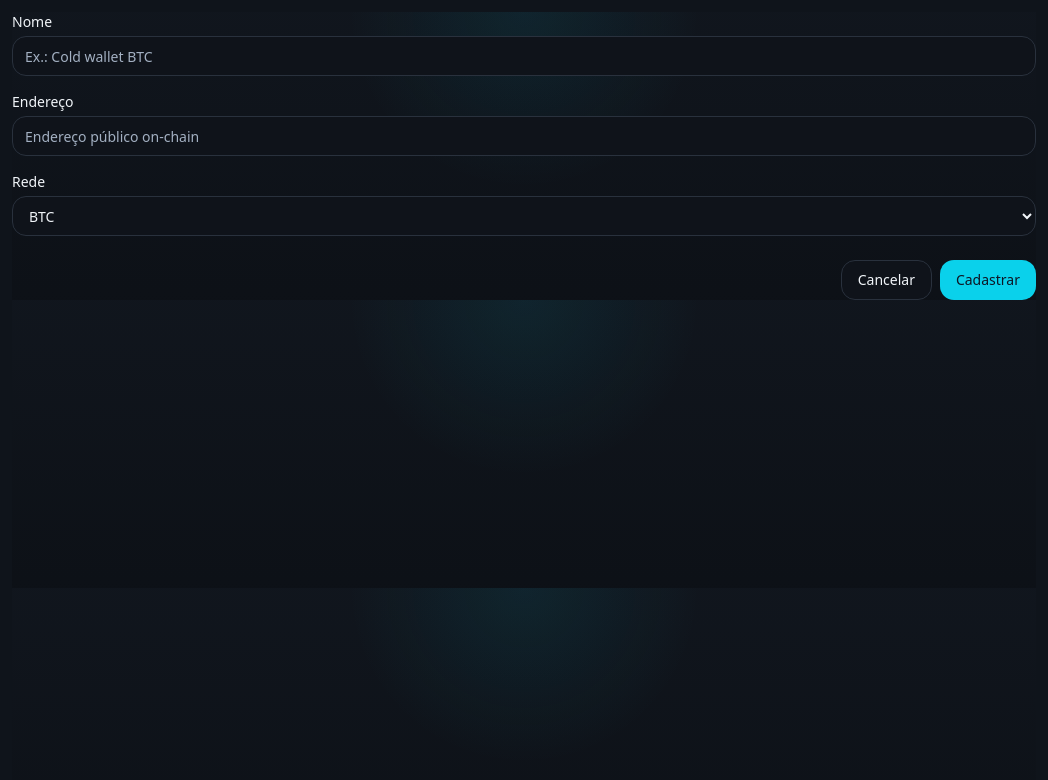
Test: WalletForm › traduz INVALID_ADDRESS em mensagem localizada
Type "Cold wallet BTC" into the field labelled "Nome" at [524, 56], box [12,36,1036,76]
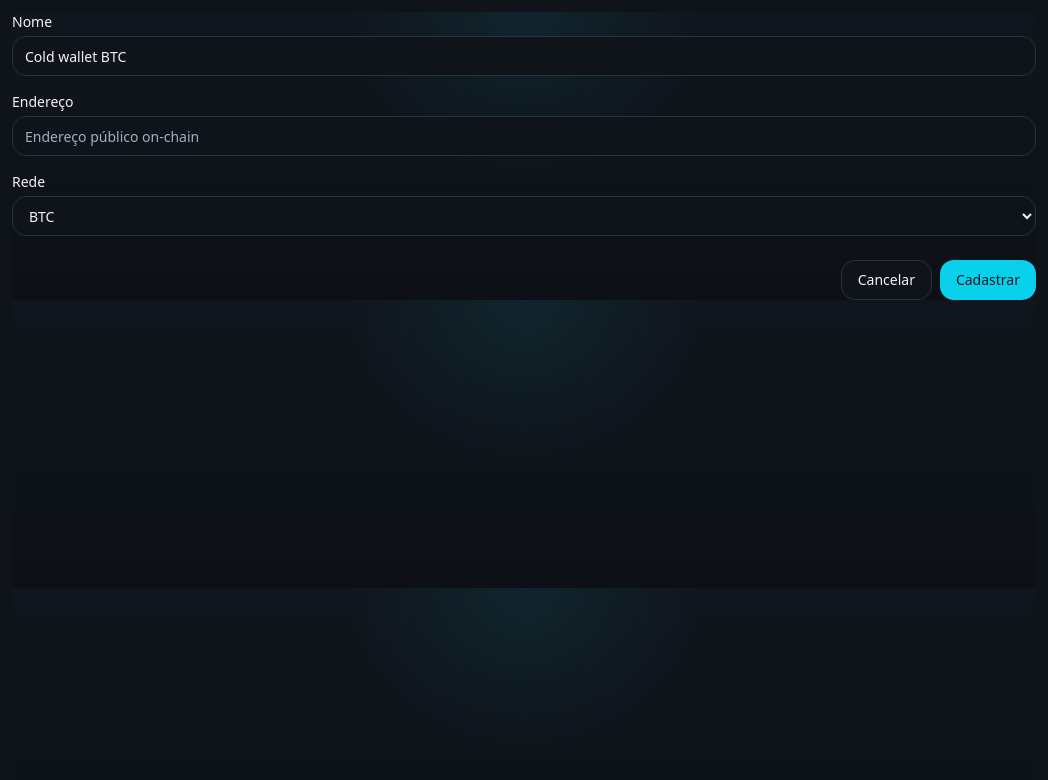
Type "bc1qabcdef0123456789fedcba9876543210" into the field labelled "Endereço" at [524, 136], box [12,116,1036,156]
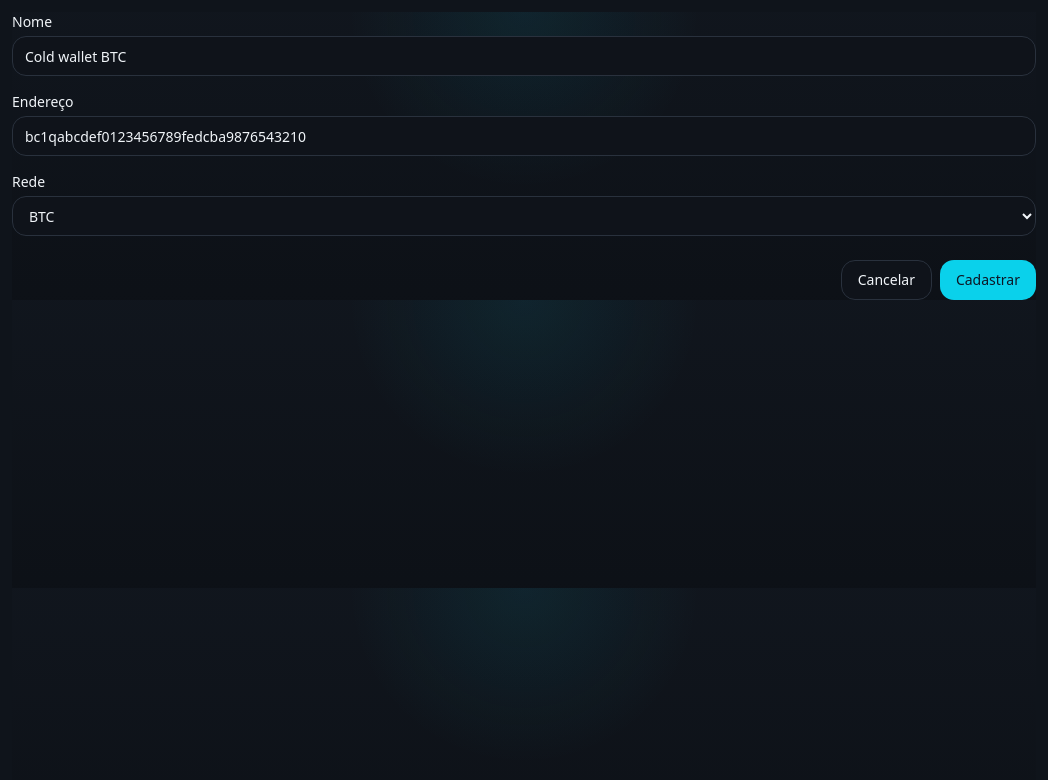
Click the button "Cadastrar" at [988, 280], box [940,260,1036,300]
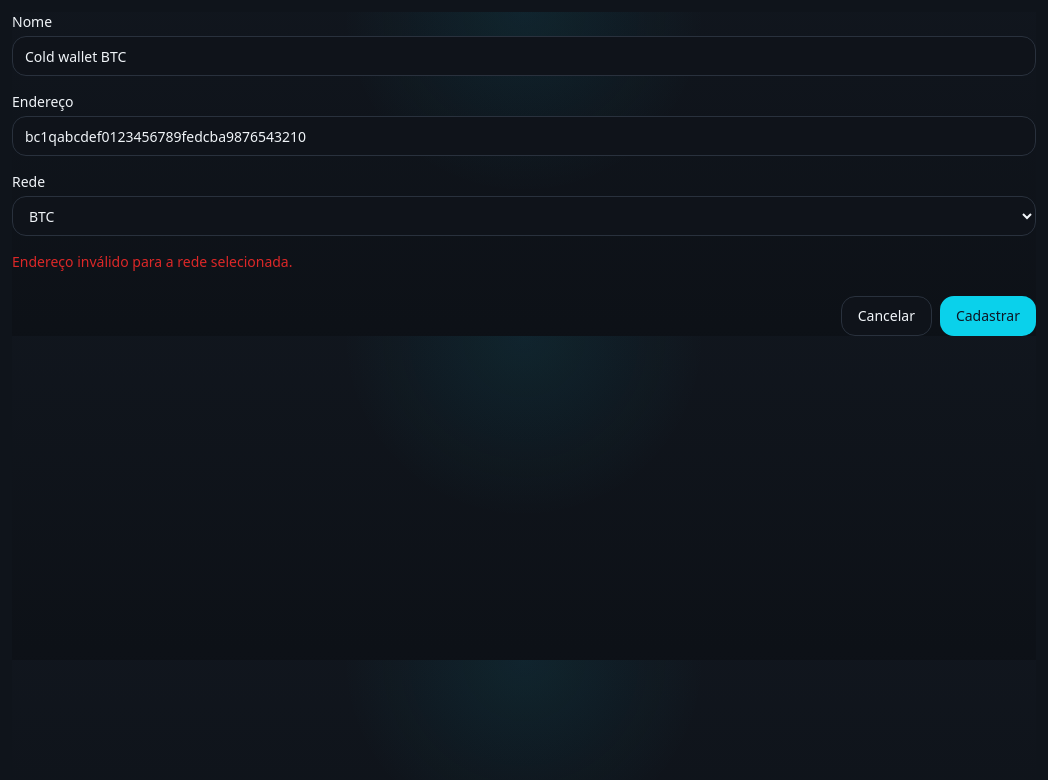
Result: the text "Endereço inválido para a rede selecionada." is shown at [12,252,292,271]
